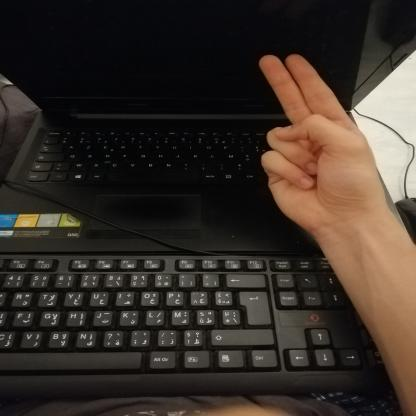TA: (240, 45, 395, 243)
